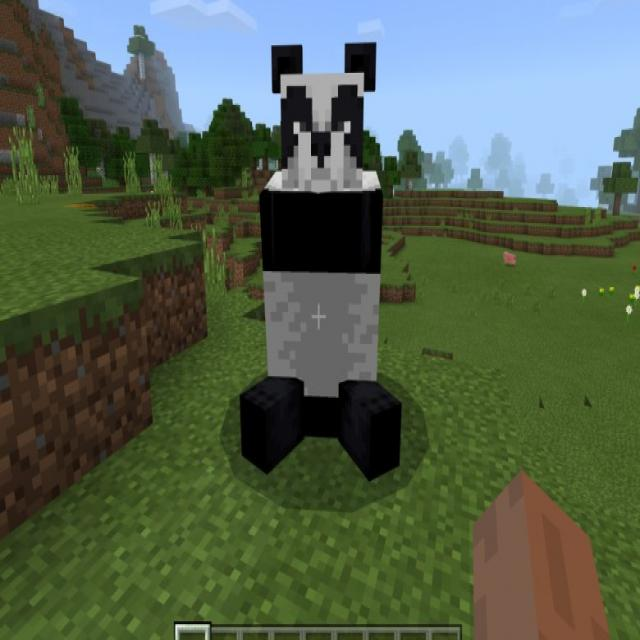Panda: (238, 36, 402, 482)
